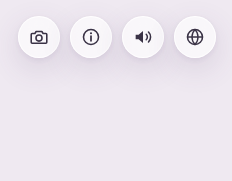
Test: LanguageMenu › lists every language in its own language with the current one checked and focused
Click the button with id "langBtn" at (195, 37), box [174,16,216,58]
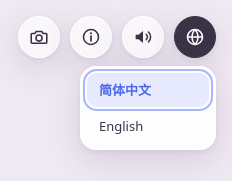
Result: the button with id "langBtn" is expanded at [174,16,216,58]
Result: the menu with id "langMenu" is shown at [80,66,216,150]
